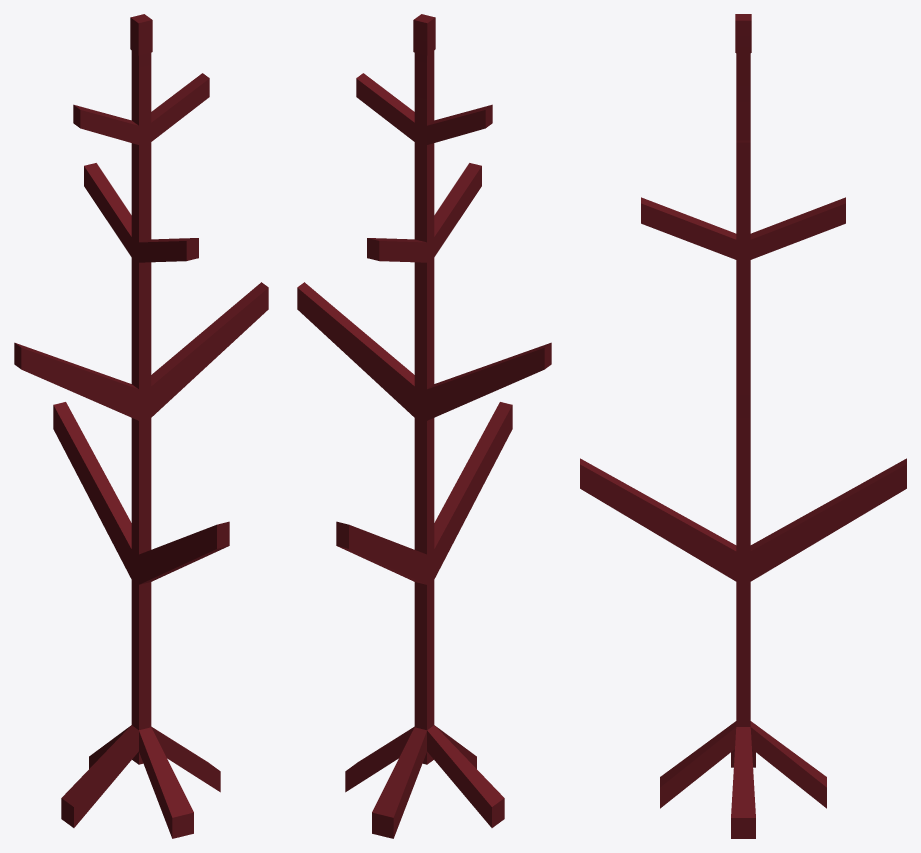
The model's file is Coat Rack.fbx.
The picture shows the model from 3 angles, left to right: view 1: azimuth 30°, elevation 25°; view 2: azimuth 150°, elevation 25°; view 3: azimuth 270°, elevation 25°; orthographic projection.
Visible parts, largest first — view 1: pCube1; view 2: pCube1; view 3: pCube1.
Part boxes in pixels (left/top/right/bottom): pCube1: left=14, top=14, right=268, bottom=838; pCube1: left=297, top=14, right=551, bottom=838; pCube1: left=580, top=14, right=906, bottom=838.
Bounding box in the file's own units: 6.87 × 20.91 × 7.88.
